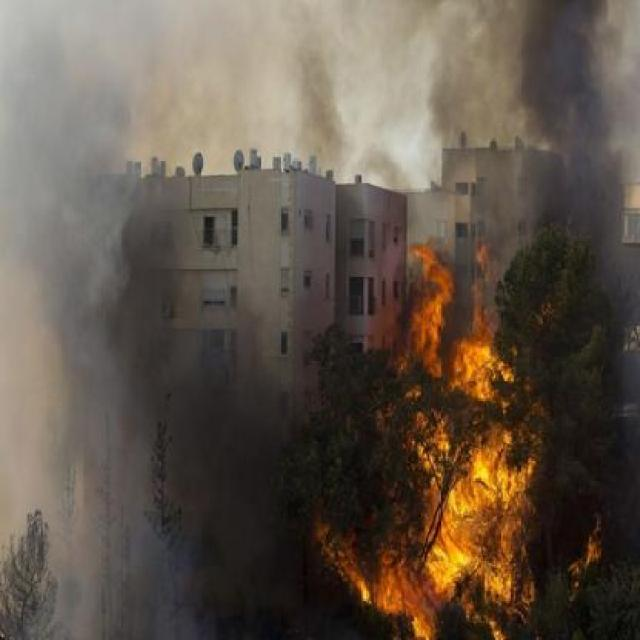Fire: (328, 233, 550, 640)
Smoke: (30, 18, 302, 640)
